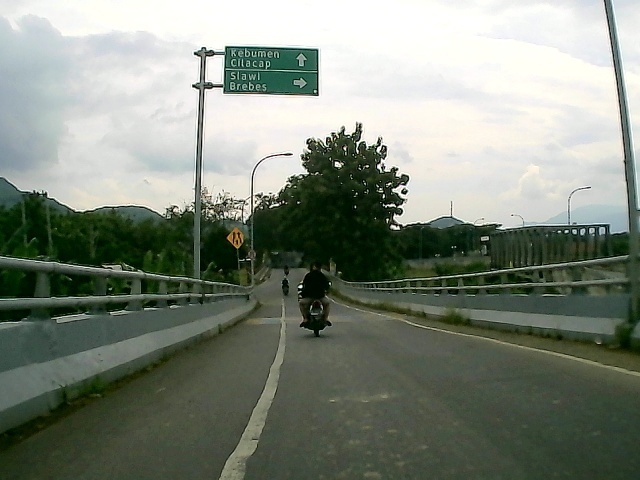Akhir bangunan pemisah satu arah: (225, 225, 248, 251)
